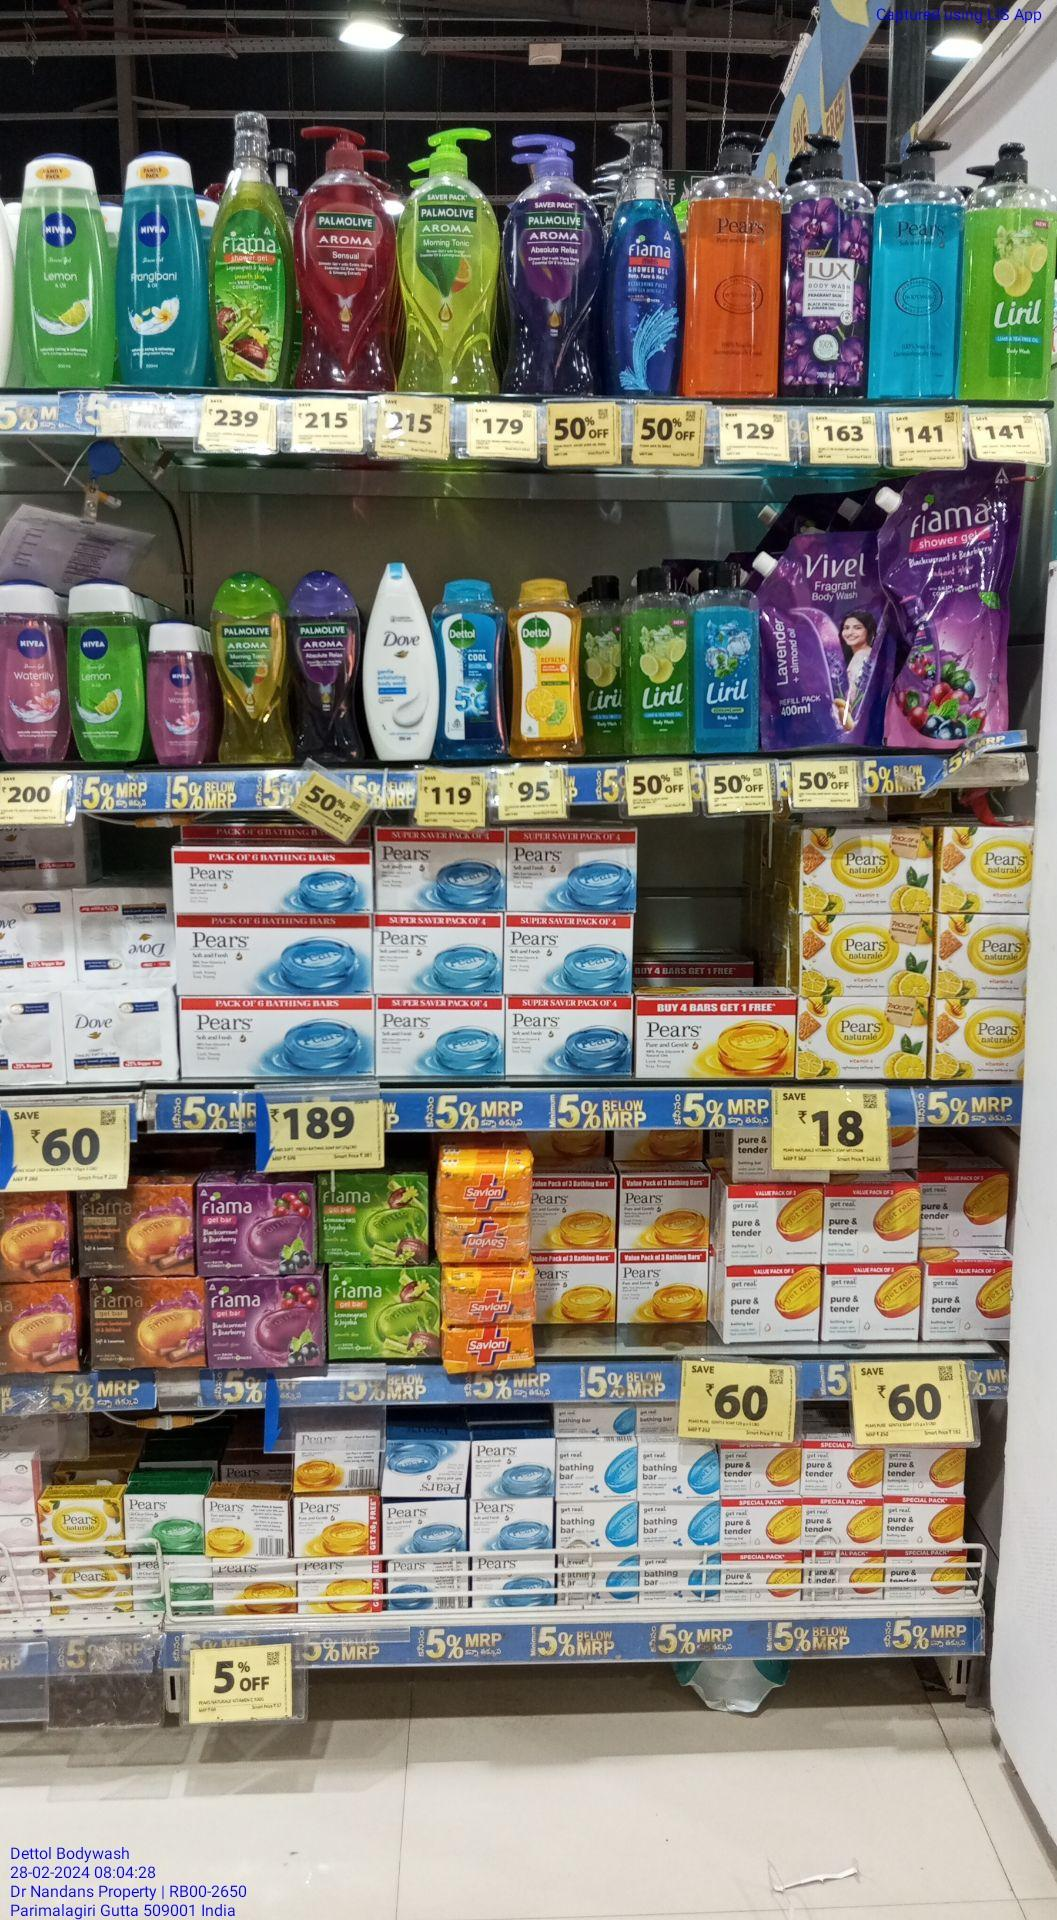Dettol_Bodywash_Cool: (440, 574, 508, 764)
Dettol_Bodywash_Refresh: (512, 575, 583, 760)
Dove_Gentle_Exfoliating_Body_Wash_250ML: (367, 562, 433, 763)
Liril_Cooling_Mint_Body_Wash_250ML: (696, 561, 760, 756)
Liril_Lime_and_Tea_Tree_Oil_Body_Wash_250ML: (625, 565, 690, 760)
Nivea_Shower_Gel_Frangipani_and_Oil_250ML: (117, 147, 208, 389)
Nivea_Shower_Gel_Lemon_and_Oil_250ML: (18, 151, 112, 389), (68, 575, 141, 763)
Nivea_Shower_Gel_Waterlily_and_Oil_250ML: (0, 577, 66, 767)
Palmolive_Aroma_Morning_Tonic_Shower_Gel_250ML: (213, 569, 285, 769)
Palmolive_Aroma_Relax_250ML: (292, 569, 362, 769)
